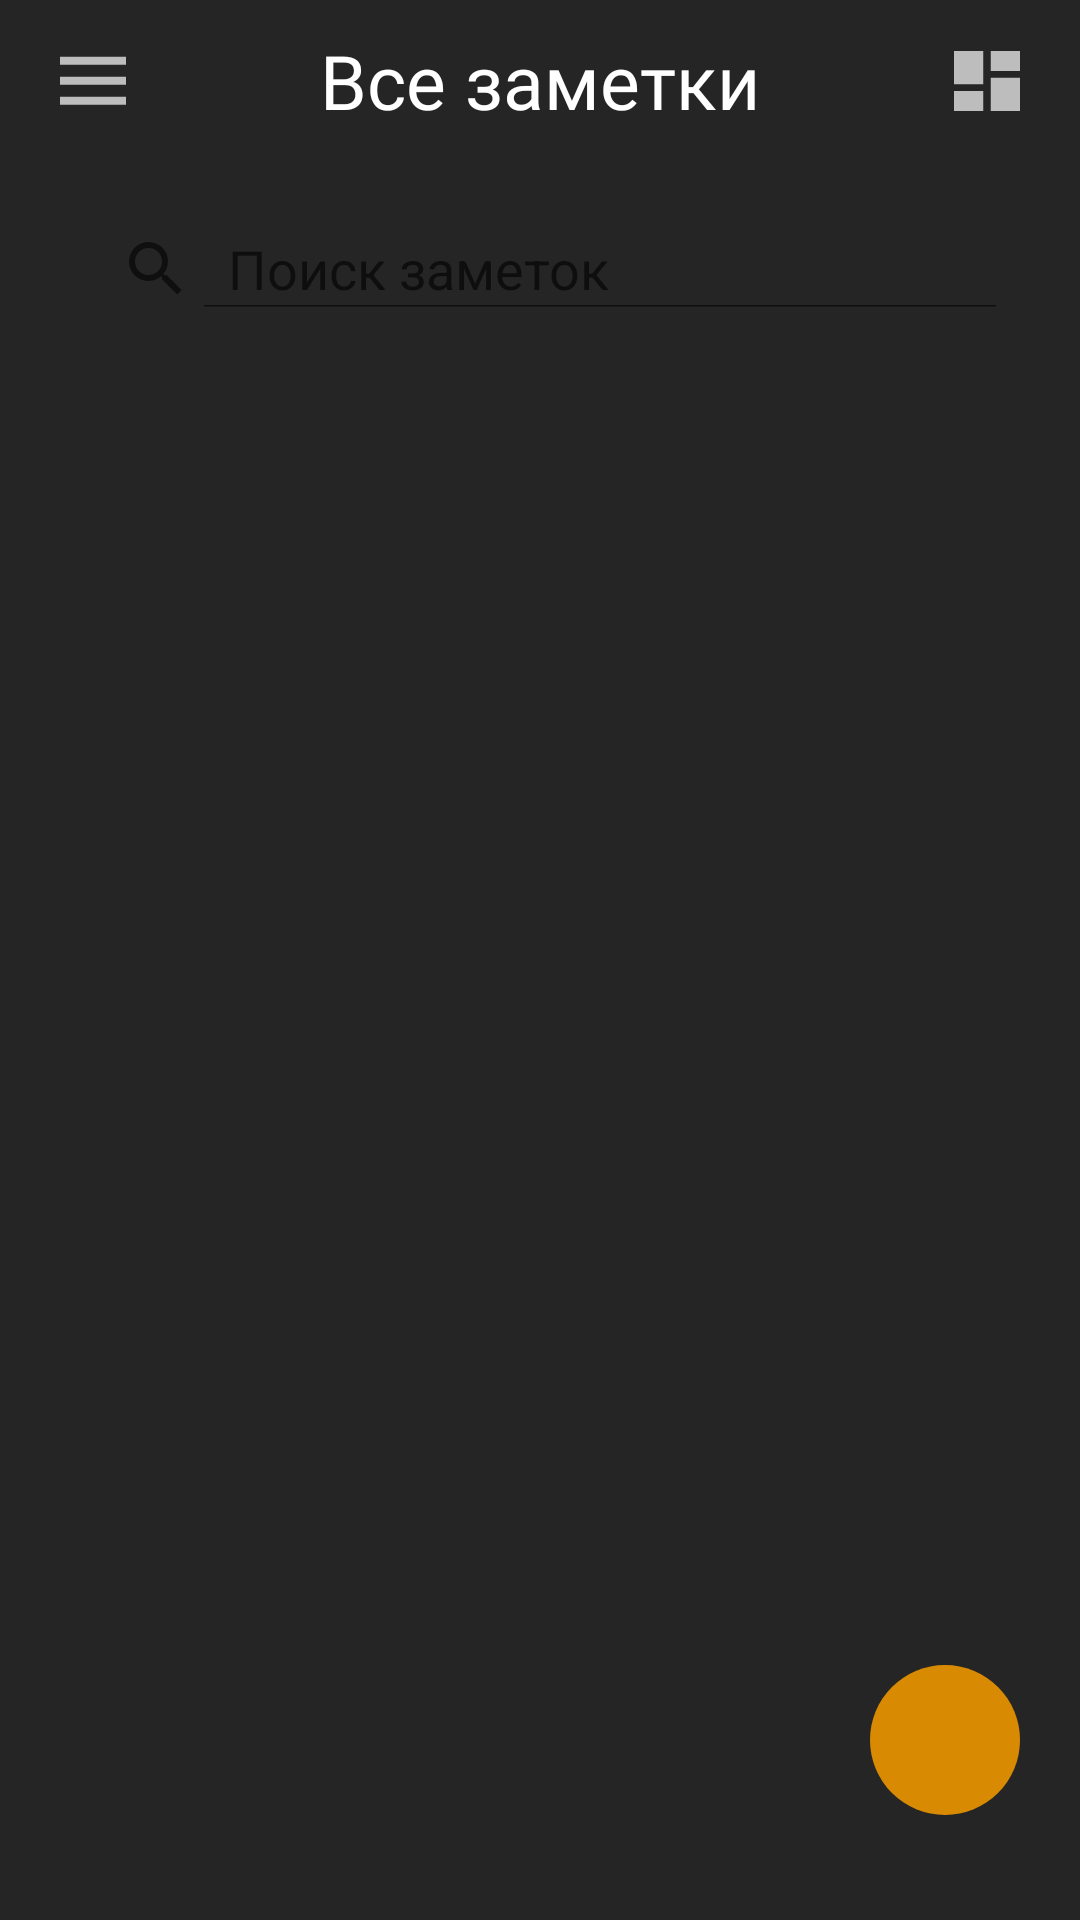

Screen size 1080x1920. Icon name, then its box in pixels as (x1, y1, x2, y2):
grid: (954, 51, 1020, 111)
menu: (60, 56, 126, 105)
